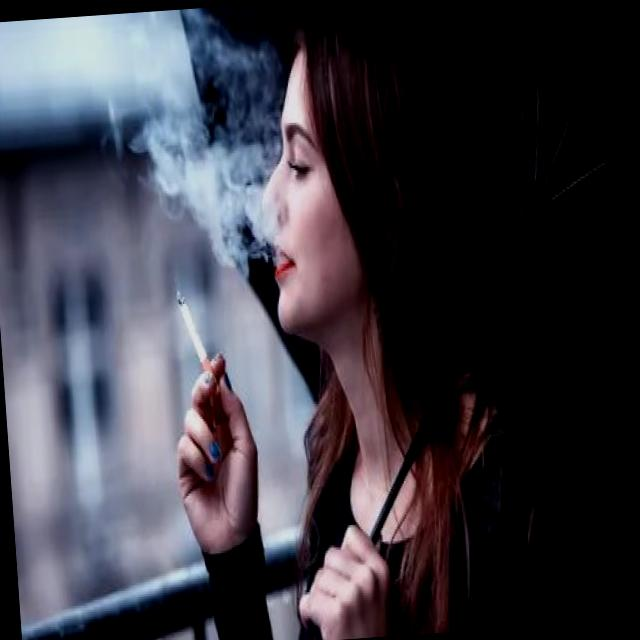cigarette: (173, 287, 220, 387)
